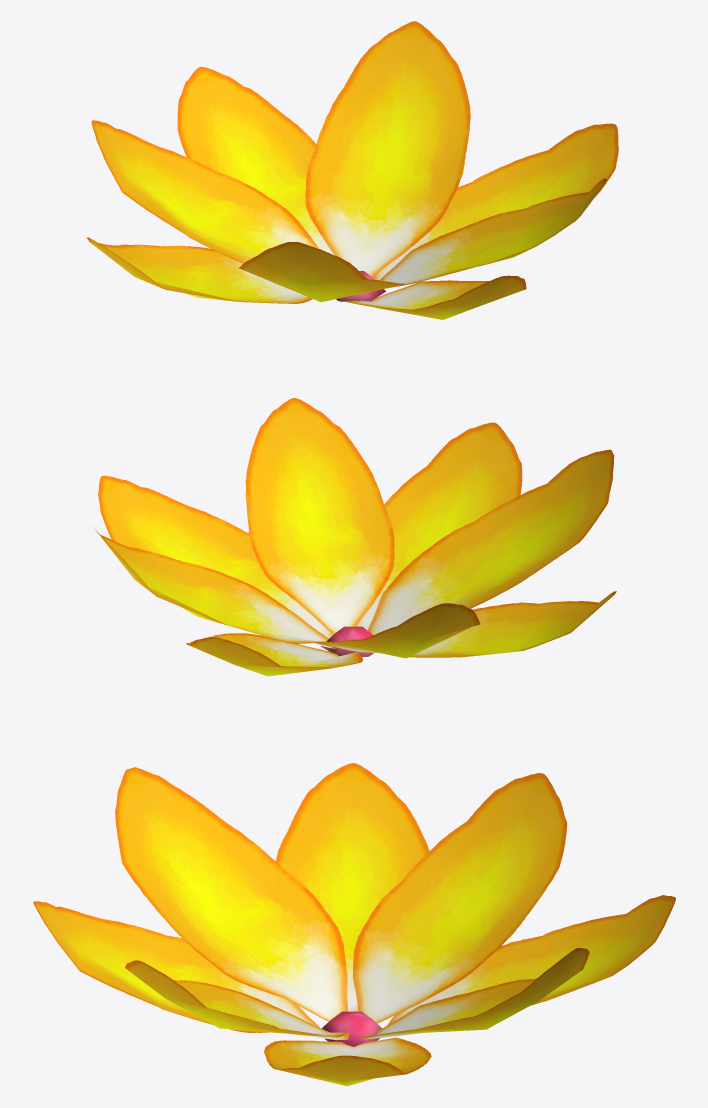
Rendered from OrangeFlowerLOD.fbx.
The picture shows the model from 3 angles, top to bottom: view 1: azimuth 30°, elevation 25°; view 2: azimuth 150°, elevation 25°; view 3: azimuth 270°, elevation 25°; orthographic projection. The views are drawn at different scales.
Visible parts, largest first — view 1: OrangeFlower_LOD0; view 2: OrangeFlower_LOD0, OrangeFlowerCenter_LOD0; view 3: OrangeFlower_LOD0, OrangeFlowerCenter_LOD0.
Part boxes in pixels (x1,y1,x2,y2): OrangeFlower_LOD0: (87,21,618,319); OrangeFlower_LOD0: (93,398,616,676); OrangeFlowerCenter_LOD0: (321,626,373,656); OrangeFlower_LOD0: (33,763,675,1086); OrangeFlowerCenter_LOD0: (321,1011,381,1046).
Size of what is drawn, in the model's own units: 389 by 114 by 382.
